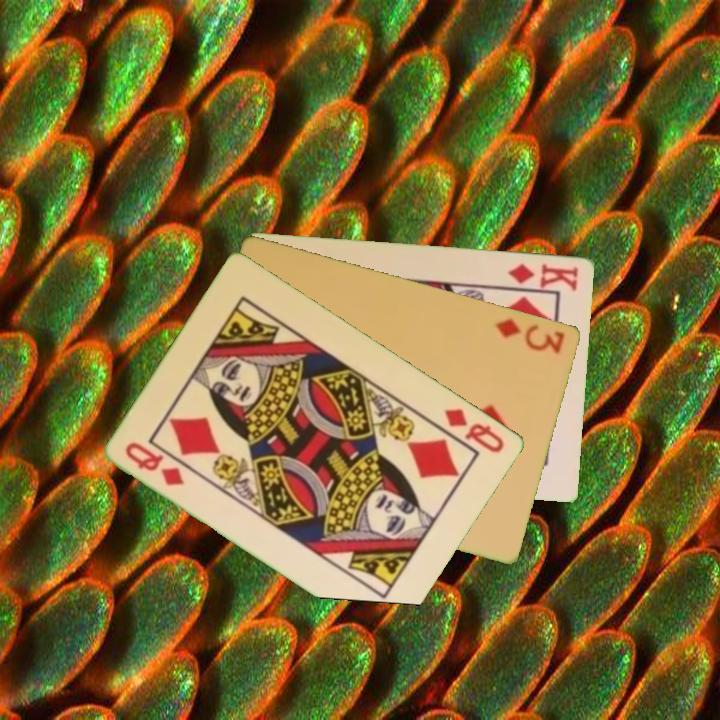3d: (492, 314, 568, 356)
Kd: (504, 259, 582, 293)
Qd: (441, 404, 508, 456), (122, 438, 188, 489)
